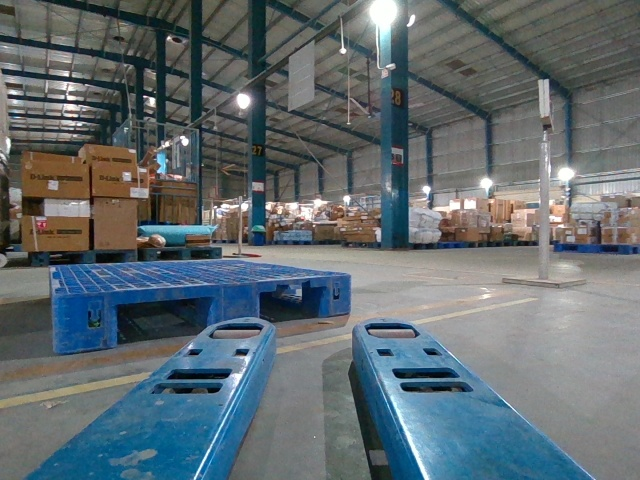block: (53, 291, 119, 351), (208, 283, 261, 323), (322, 274, 349, 316)
front: (51, 273, 351, 353)
hole pallet: (116, 296, 209, 348), (259, 288, 324, 324)
